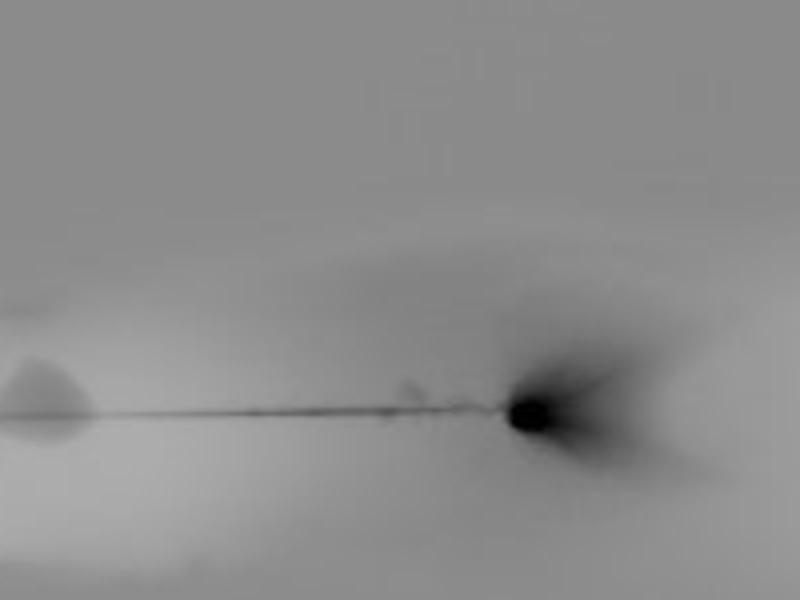defect: (508, 386, 558, 433)
